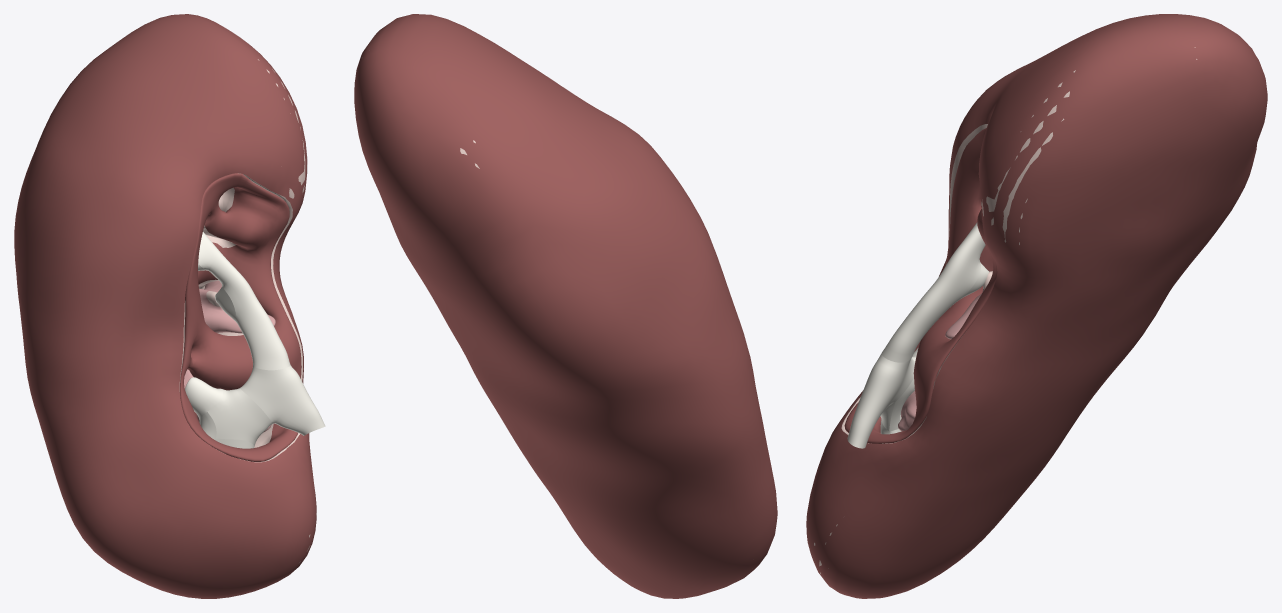
Rendered from VH_M_Kidney_R.glb.
The picture shows the model from 3 angles, left to right: view 1: azimuth 30°, elevation 25°; view 2: azimuth 150°, elevation 25°; view 3: azimuth 270°, elevation 25°; orthographic projection. The views are drawn at different scales.
Parts seen in each view (by area): view 1: VH_M_kidney_capsule_R, VH_M_hilum_of_kidney_R, VH_M_major_calyx_R_a, VH_M_renal_pelvis_R, VH_M_major_calyx_R_b, VH_M_outer_cortex_of_kidney_R, VH_M_renal_pyramid_f, VH_M_minor_calyx_R_f, VH_M_renal_column_R; view 2: VH_M_kidney_capsule_R; view 3: VH_M_kidney_capsule_R, VH_M_hilum_of_kidney_R, VH_M_major_calyx_R_a, VH_M_renal_pelvis_R, VH_M_outer_cortex_of_kidney_R.
Part boxes in pixels (left/top/right/bottom): VH_M_kidney_capsule_R: left=14, top=14, right=316, bottom=598; VH_M_hilum_of_kidney_R: left=180, top=173, right=301, bottom=461; VH_M_major_calyx_R_a: left=198, top=232, right=290, bottom=370; VH_M_renal_pelvis_R: left=239, top=365, right=325, bottom=435; VH_M_major_calyx_R_b: left=207, top=388, right=272, bottom=446; VH_M_outer_cortex_of_kidney_R: left=89, top=59, right=316, bottom=562; VH_M_renal_pyramid_f: left=199, top=280, right=275, bottom=333; VH_M_minor_calyx_R_f: left=185, top=377, right=222, bottom=419; VH_M_renal_column_R: left=198, top=188, right=273, bottom=447; VH_M_kidney_capsule_R: left=354, top=14, right=777, bottom=598; VH_M_kidney_capsule_R: left=806, top=14, right=1267, bottom=598; VH_M_hilum_of_kidney_R: left=844, top=128, right=997, bottom=443; VH_M_major_calyx_R_a: left=882, top=222, right=985, bottom=362; VH_M_renal_pelvis_R: left=847, top=353, right=914, bottom=448; VH_M_outer_cortex_of_kidney_R: left=814, top=47, right=1197, bottom=574.
Bounding box in the file's own units: 0.0655 × 0.1125 × 0.0764.
